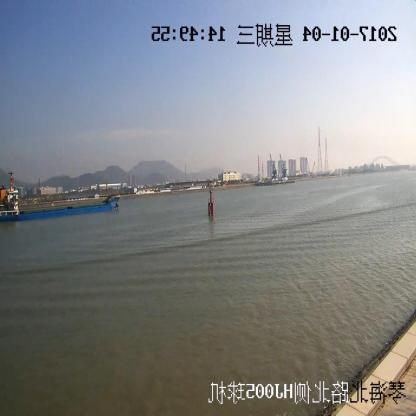Bulk Carrier: (0, 169, 119, 225)
